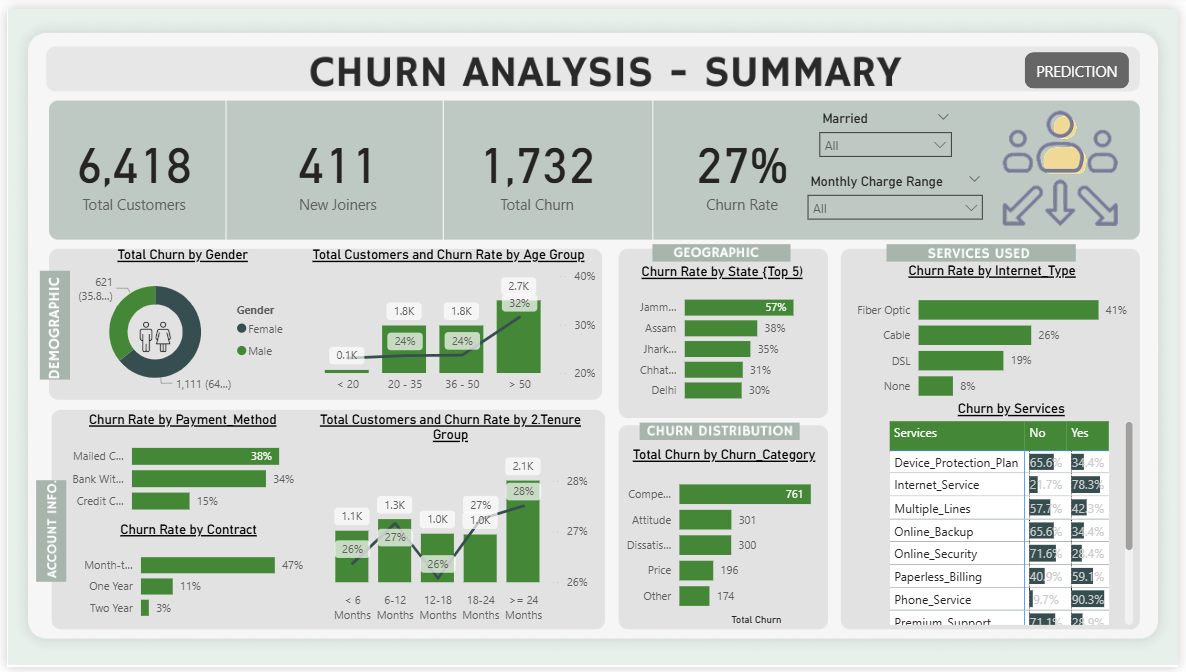

What the dashboard file says about the page in this screenshot:
{"tool":"powerbi","page":{"name":"Summary","canvas":[1280,720],"ordinal":0},"visuals":[{"type":"image","box":[108.9,335.6,106.7,45.6],"z":0},{"type":"card","fields":{"Values":["tbl_measures.Total Customers"]},"box":[54.3,106.6,168.6,135.7],"z":1000},{"type":"card","fields":{"Values":["tbl_measures.New Joiners"]},"box":[294.8,113,134.3,122.9],"z":2000},{"type":"card","fields":{"Values":["tbl_measures.Total Churn"]},"box":[501,106.6,155.7,135.7],"z":3000},{"type":"card","fields":{"Values":["tbl_measures.Churn Rate"]},"box":[728.6,105.2,150,138.6],"z":4000},{"type":"donutChart","fields":{"Category":["prod_Churn.Gender"],"Y":["tbl_measures.Total Churn"]},"box":[67.5,260,250,168.8],"z":5000},{"type":"lineStackedColumnComboChart","fields":{"Category":["mapping_AgeGroup.Age Group"],"Y":["tbl_measures.Total Customers"],"Y2":["tbl_measures.Churn Rate"]},"box":[317.5,260,331.2,168.8],"z":6000},{"type":"clusteredBarChart","fields":{"Category":["prod_Churn.Payment_Method"],"Y":["tbl_measures.Churn Rate"]},"box":[54.3,440,275.7,122.9],"z":7000},{"type":"clusteredBarChart","fields":{"Category":["prod_Churn.Contract"],"Y":["tbl_measures.Churn Rate"]},"box":[67.1,560,262.9,118.6],"z":8000},{"type":"lineStackedColumnComboChart","fields":{"Category":["mapping_TenureGrp.2.Tenure Group "],"Y":["tbl_measures.Total Customers"],"Y2":["tbl_measures.Churn Rate"]},"box":[330,440,310,238.6],"z":9000},{"type":"clusteredBarChart","title":"Churn Rate by State {Top 5)","fields":{"Category":["prod_Churn.State"],"Y":["tbl_measures.Churn Rate"]},"box":[673.3,278.3,218.3,161.7],"z":10000},{"type":"clusteredBarChart","fields":{"Category":["prod_Churn.Churn_Category"],"Y":["tbl_measures.Total Churn"]},"box":[660,478.3,248.3,200],"z":11000},{"type":"clusteredBarChart","fields":{"Category":["prod_Churn.Internet_Type"],"Y":["tbl_measures.Churn Rate"]},"box":[918.8,277.5,317.5,162.5],"z":12000},{"type":"pivotTable","title":"Churn by Services","fields":{"Rows":["prod_Services.Services"],"Columns":["prod_Services.Status"],"Values":["Min(prod_Services.Churn Status)"]},"box":[960,428.3,276.7,250],"z":13000},{"type":"slicer","fields":{"Values":["prod_Churn.Monthly Charge Range "]},"box":[865.7,174.3,211.4,70],"z":14000},{"type":"slicer","fields":{"Values":["prod_Churn.Married"]},"box":[878.6,105.7,164.3,61.4],"z":15000},{"type":"shape","box":[1112.2,46.7,114.4,40],"z":16000}]}

Visuals, with their boxes in screenshot pixels (x1, y1, x2, y2), scaled from the page's 1280x720 canvas onto the 1186x672 screenshot:
image: box=[101, 313, 200, 356]
card - tbl_measures.Total Customers: box=[50, 99, 207, 226]
card - tbl_measures.New Joiners: box=[273, 105, 398, 220]
card - tbl_measures.Total Churn: box=[464, 99, 608, 226]
card - tbl_measures.Churn Rate: box=[675, 98, 814, 228]
donutChart - prod_Churn.Gender x tbl_measures.Total Churn: box=[63, 243, 294, 400]
lineStackedColumnComboChart - mapping_AgeGroup.Age Group x tbl_measures.Total Customers: box=[294, 243, 601, 400]
clusteredBarChart - prod_Churn.Payment_Method x tbl_measures.Churn Rate: box=[50, 411, 306, 525]
clusteredBarChart - prod_Churn.Contract x tbl_measures.Churn Rate: box=[62, 523, 306, 633]
lineStackedColumnComboChart - mapping_TenureGrp.2.Tenure Group  x tbl_measures.Total Customers: box=[306, 411, 593, 633]
"Churn Rate by State {Top 5)" clusteredBarChart: box=[624, 260, 826, 411]
clusteredBarChart - prod_Churn.Churn_Category x tbl_measures.Total Churn: box=[612, 446, 842, 633]
clusteredBarChart - prod_Churn.Internet_Type x tbl_measures.Churn Rate: box=[851, 259, 1146, 411]
"Churn by Services" pivotTable: box=[890, 400, 1146, 633]
slicer - prod_Churn.Monthly Charge Range : box=[802, 163, 998, 228]
slicer - prod_Churn.Married: box=[814, 99, 966, 156]
shape: box=[1031, 44, 1137, 81]
